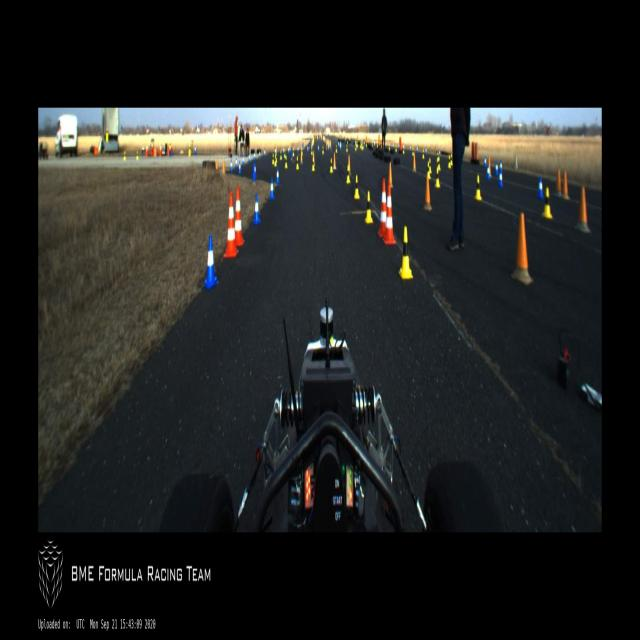blue_cone: (203, 236, 219, 289), (253, 195, 261, 223), (537, 177, 543, 200), (270, 177, 274, 199), (498, 169, 502, 188), (276, 166, 280, 184), (487, 165, 490, 180), (238, 160, 241, 174), (495, 162, 498, 176), (230, 160, 233, 172), (254, 163, 256, 178), (484, 156, 486, 168)
large_orange_cone: (223, 192, 239, 258), (383, 183, 396, 244), (234, 187, 244, 245), (378, 179, 386, 236)
unknown_cone: (511, 212, 533, 286), (575, 186, 590, 233), (424, 174, 432, 211), (561, 170, 570, 199), (556, 170, 562, 196), (332, 153, 337, 170), (412, 152, 416, 172)
yellow_cone: (399, 226, 413, 279), (542, 187, 552, 219), (365, 192, 373, 223), (475, 175, 482, 200), (354, 176, 360, 200), (435, 168, 440, 188), (346, 165, 351, 184), (427, 162, 431, 179), (447, 156, 451, 170), (330, 158, 333, 174), (429, 158, 432, 174), (296, 157, 299, 169), (450, 154, 453, 166), (312, 158, 314, 171), (285, 156, 287, 168), (274, 156, 276, 167), (272, 154, 274, 164), (280, 151, 282, 160), (284, 150, 286, 158)
